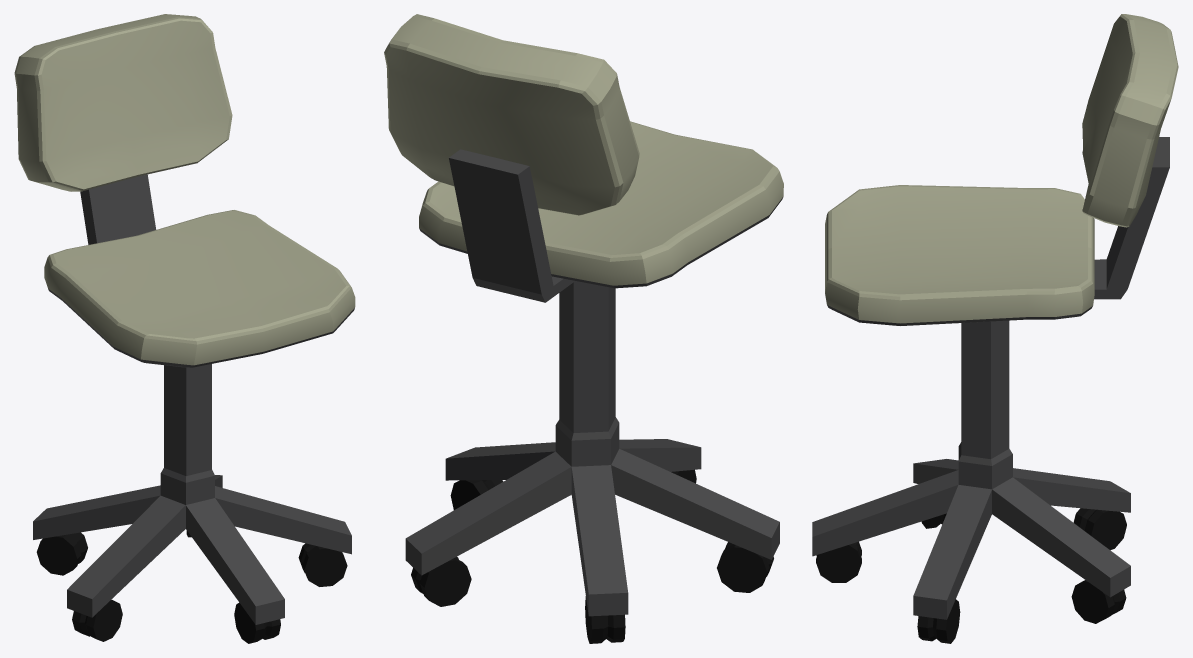
The model's file is Chair_1.glb.
3 renders of one model, left to right at view 1: azimuth 30°, elevation 25°; view 2: azimuth 150°, elevation 25°; view 3: azimuth 270°, elevation 25°, orthographic. The views are drawn at different scales.
Parts seen in each view (by area): view 1: Chair; view 2: Chair; view 3: Chair.
Boxes of the visible parts, bbox=[...] form: Chair: bbox=[14, 14, 355, 643]; Chair: bbox=[384, 14, 783, 643]; Chair: bbox=[812, 14, 1178, 643].
Bounding box in the file's own units: 1.07 × 1.87 × 1.17.
